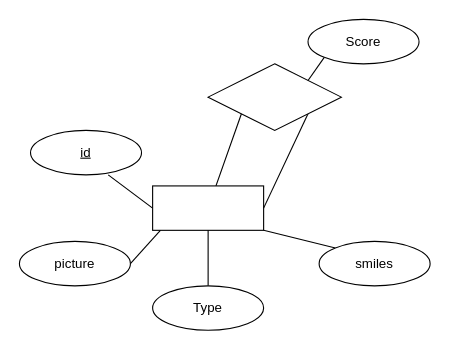
Some shapes in this 450 by 350 pixel diagram are drawn without their labels. Here are the shapes that lost their labels. From the top down, the centre of each, then its label:
point (274, 96): Match
point (208, 207): Molecule
